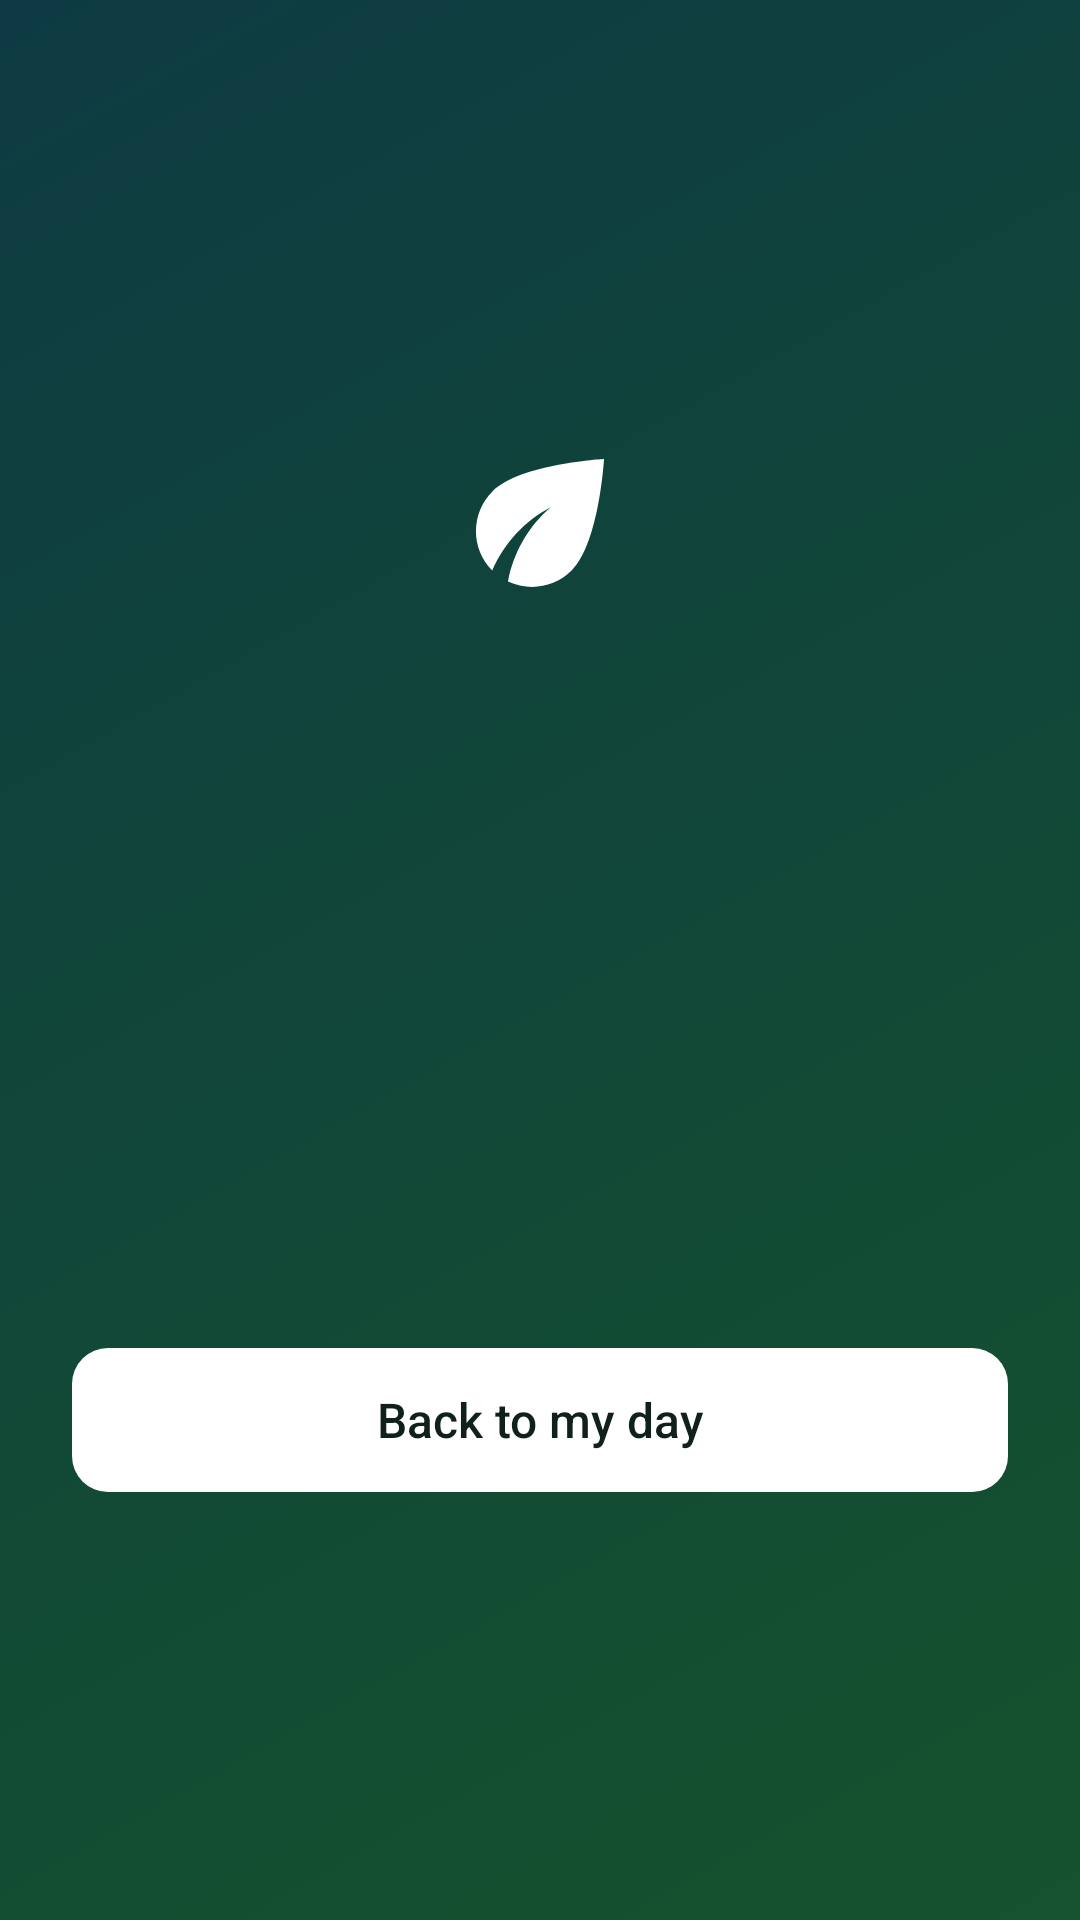

Screen size 1080 x 1920. Icon name, then its box in pixels as (x1, y1, x2, y2):
leaf: (476, 459, 604, 587)
